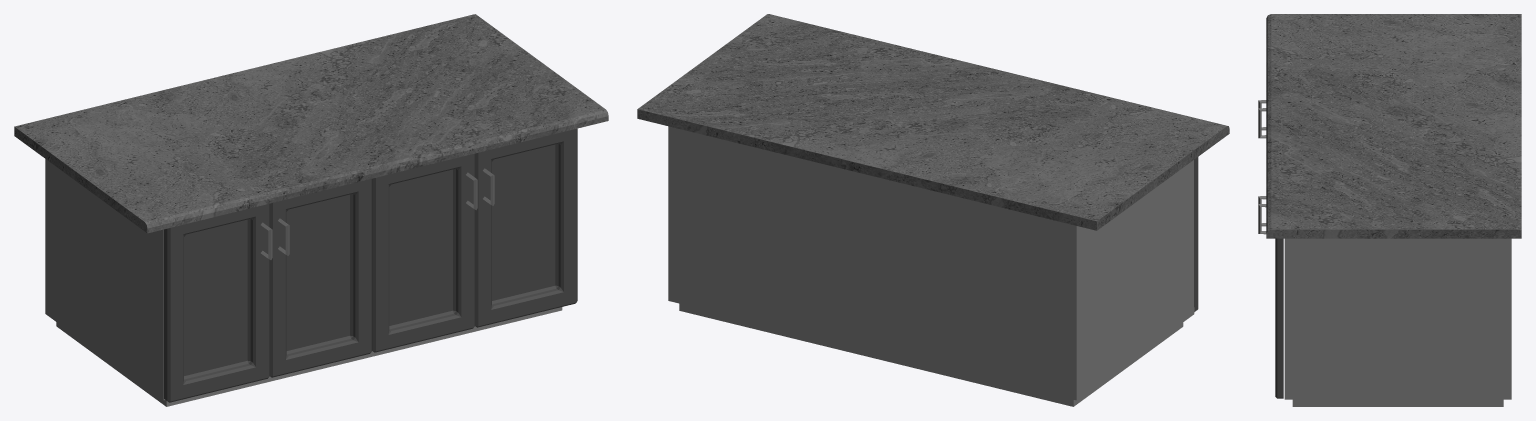
Rendered from KitchenIsland.fbx.
3 renders of one model, left to right at view 1: azimuth 30°, elevation 25°; view 2: azimuth 150°, elevation 25°; view 3: azimuth 270°, elevation 25°, orthographic. The views are drawn at different scales.
Parts seen in each view (by area): view 1: Cube.008; view 2: Cube.008; view 3: Cube.008.
Boxes of the visible parts, x1,y1,x2,y2 form: Cube.008: (14, 14, 608, 406); Cube.008: (637, 14, 1229, 406); Cube.008: (1258, 14, 1521, 406).
Size of the model in its own units: 225 by 93.75 by 116.
3 materials, 2 textured.
